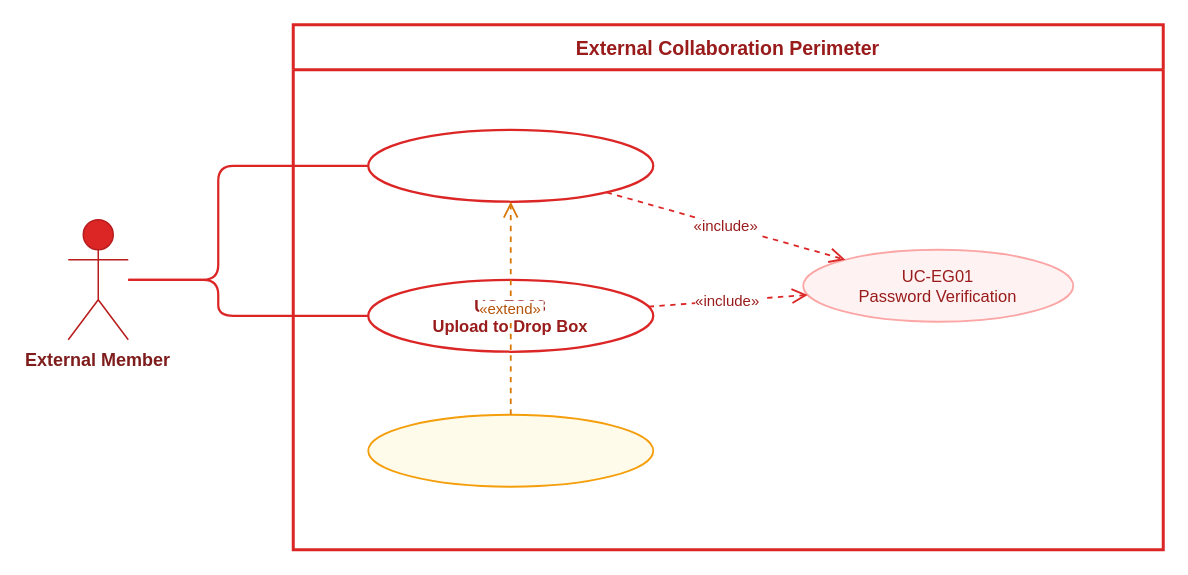
This 1188x575 diagram has some shape labels left out. The box of each missing label's shape, as (x1, y1, x2, y2) in pixels:
UC-EG02 Preview & Download: (366, 128, 654, 202)
UC-EG04 View AI Summary: (367, 413, 653, 487)
